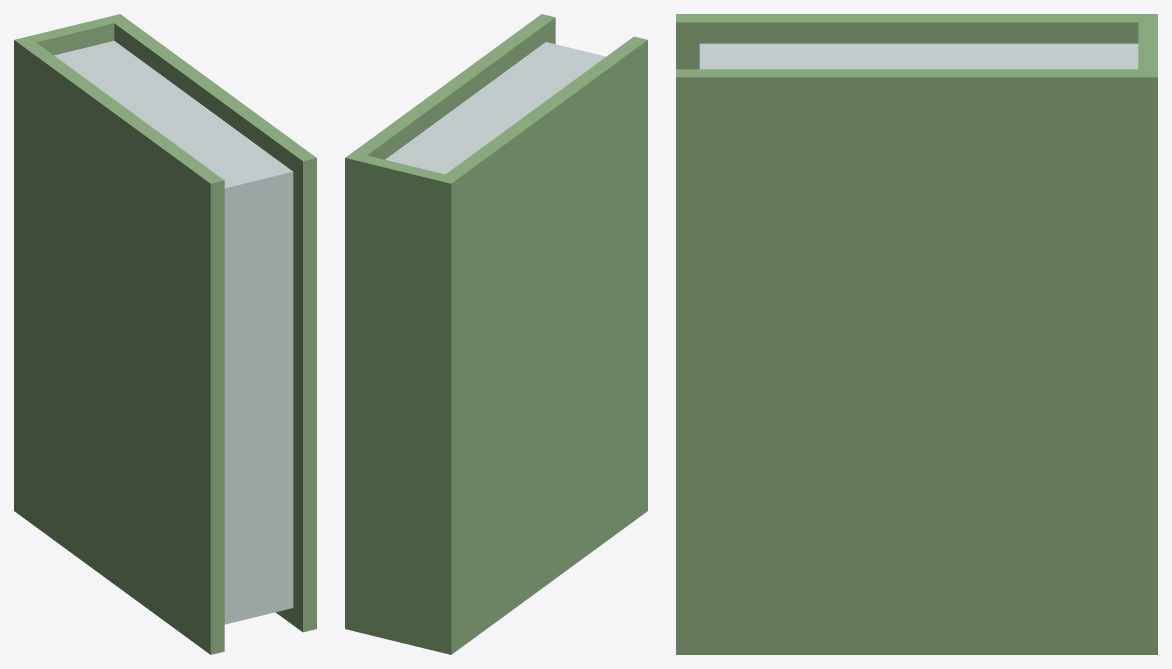
File: Book_3.fbx
The picture shows the model from 3 angles, left to right: view 1: azimuth 30°, elevation 25°; view 2: azimuth 150°, elevation 25°; view 3: azimuth 270°, elevation 25°; orthographic projection. The views are drawn at different scales.
Visible parts, largest first — view 1: Book_3; view 2: Book_3; view 3: Book_3.
Boxes of the visible parts, <box> form: Book_3: <box>14,14,316,654</box>; Book_3: <box>345,14,647,654</box>; Book_3: <box>676,14,1157,654</box>.
Size of the model in its own units: 8.53 by 36.18 by 27.36.
Materials: 1 (1 with a texture image).
